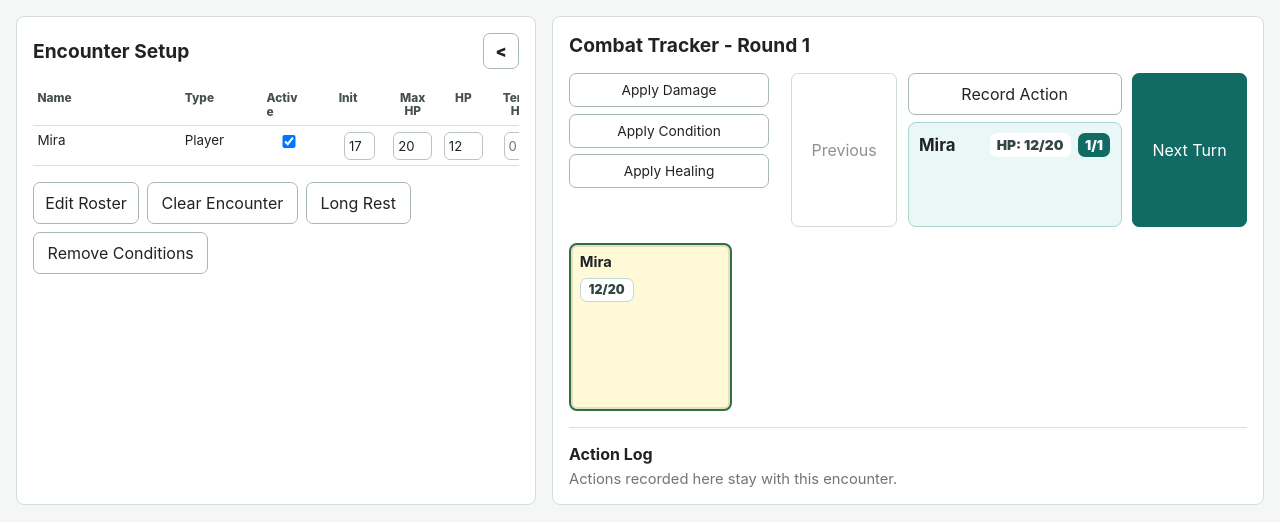
Test: App workflow › replaces or clears the active combatant action for the current round
Click the button "Record Action". click: (1015, 94)
box: [908,73,1122,115]
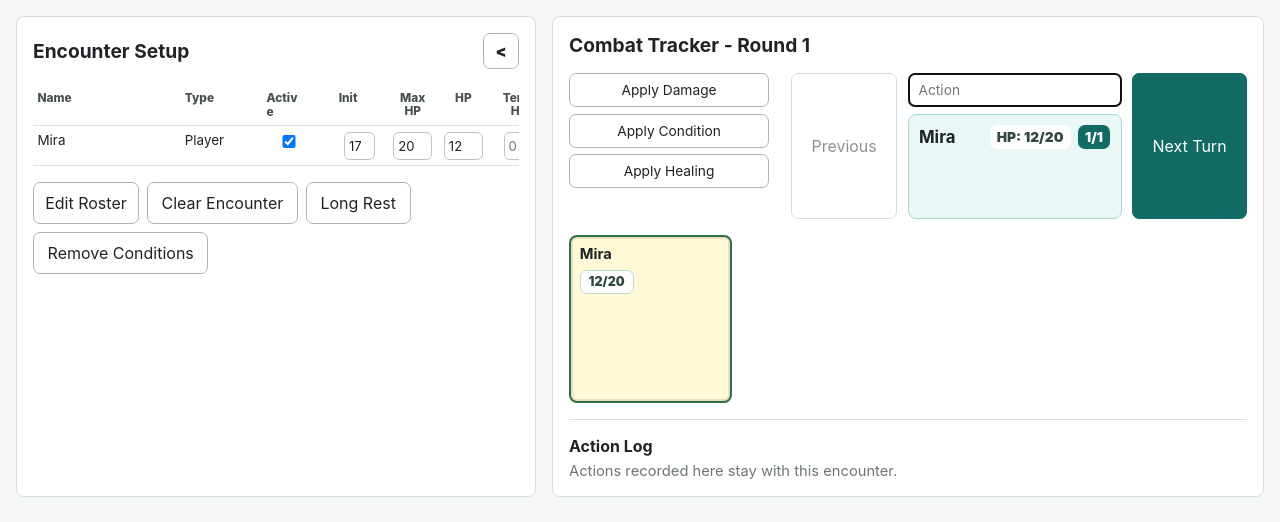
Type "Attack Goblin Warrior 1" into the field named "action text". click: (1015, 90)
box: [908,73,1122,107]
Press Tab
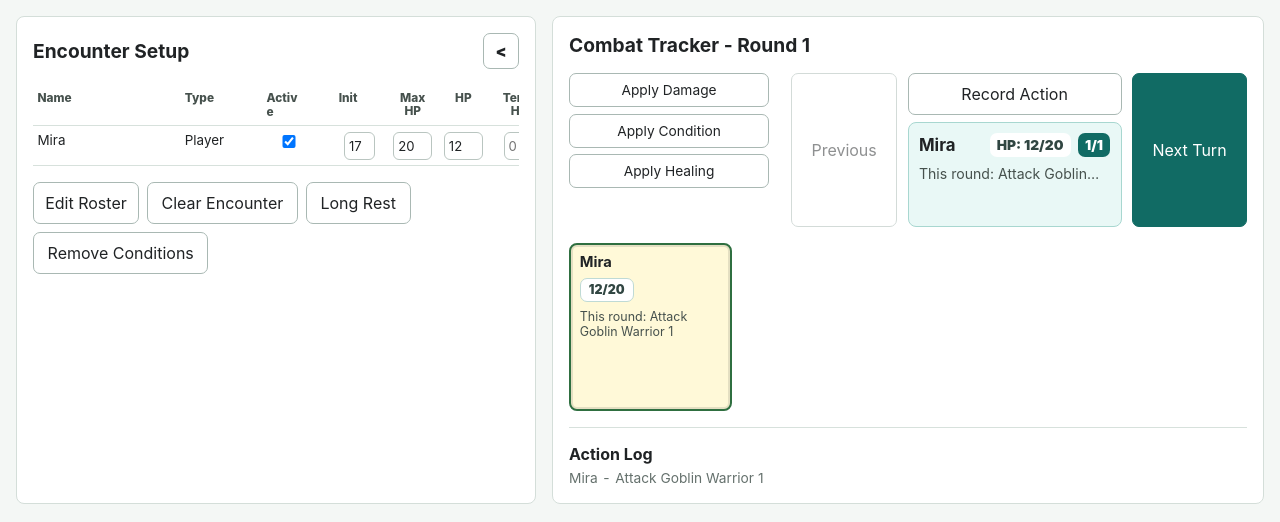
Result: the text "Attack Goblin Warrior 1" is shown at [615,470,764,487]
Click the button "Record Action". click: (1015, 94)
box: [908,73,1122,115]
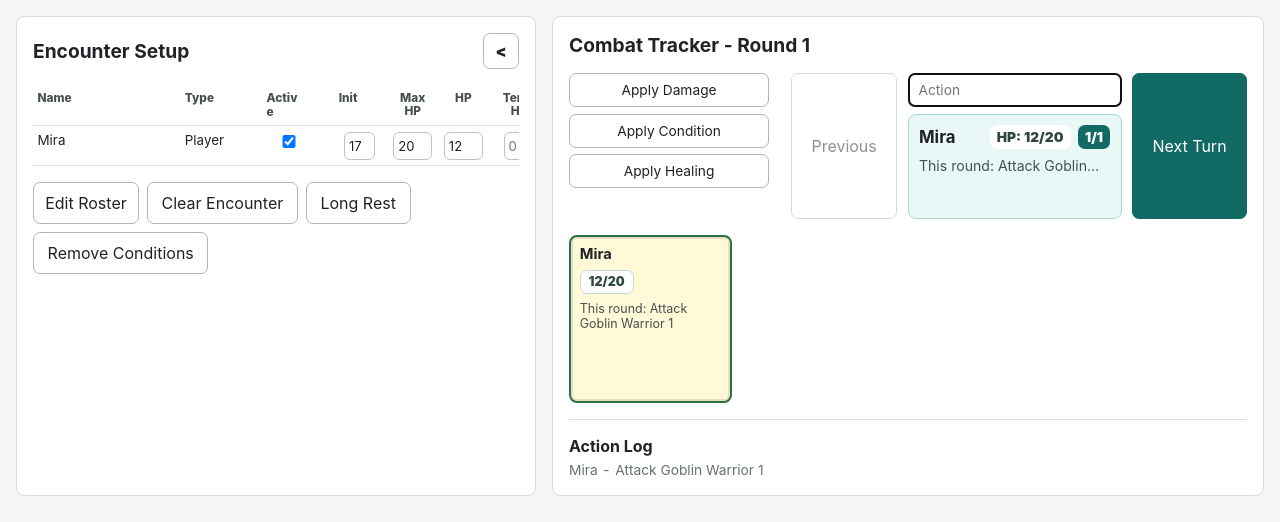
Type "Cast Sleep" into the field named "action text". click: (1015, 90)
box: [908,73,1122,107]
Press Tab
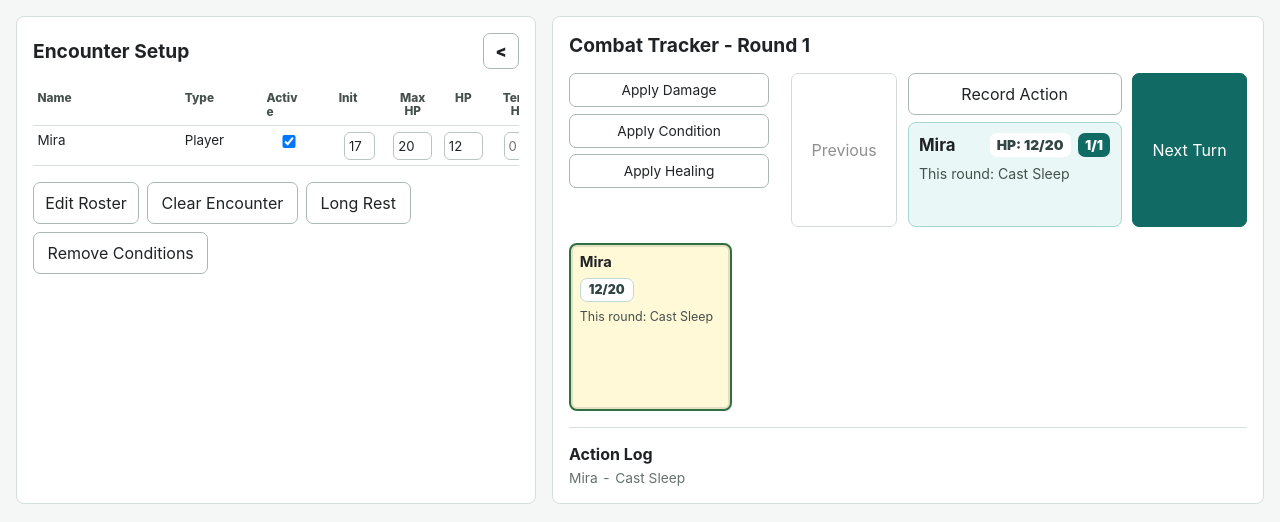
Result: the text "Attack Goblin Warrior 1" is gone
Result: the text "Cast Sleep" is shown at [615,470,685,487]
Click the button "Record Action". click: (1015, 94)
box: [908,73,1122,115]
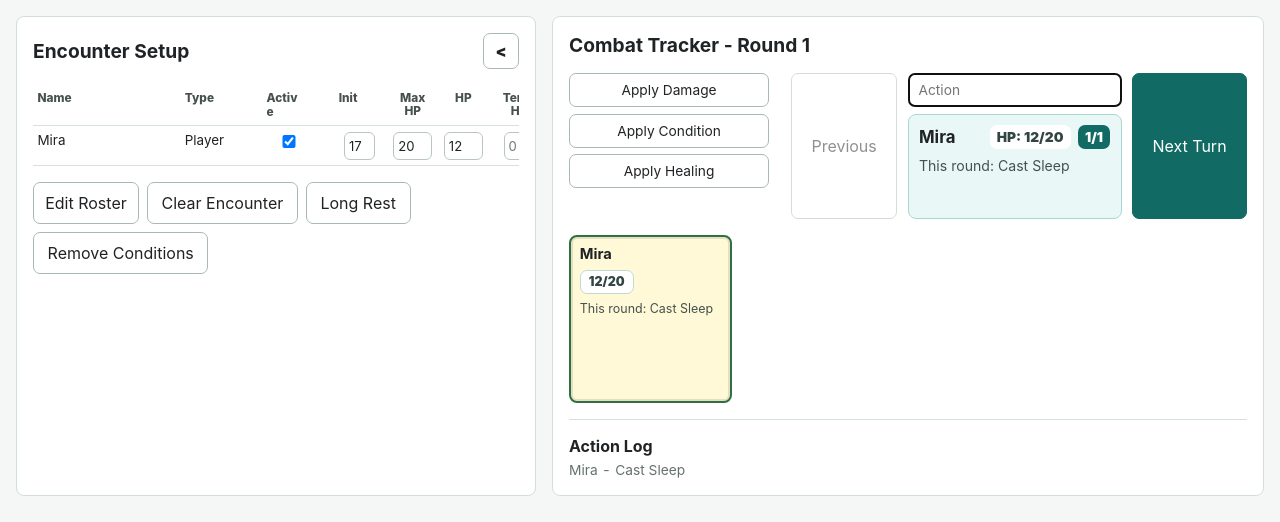
Press Tab
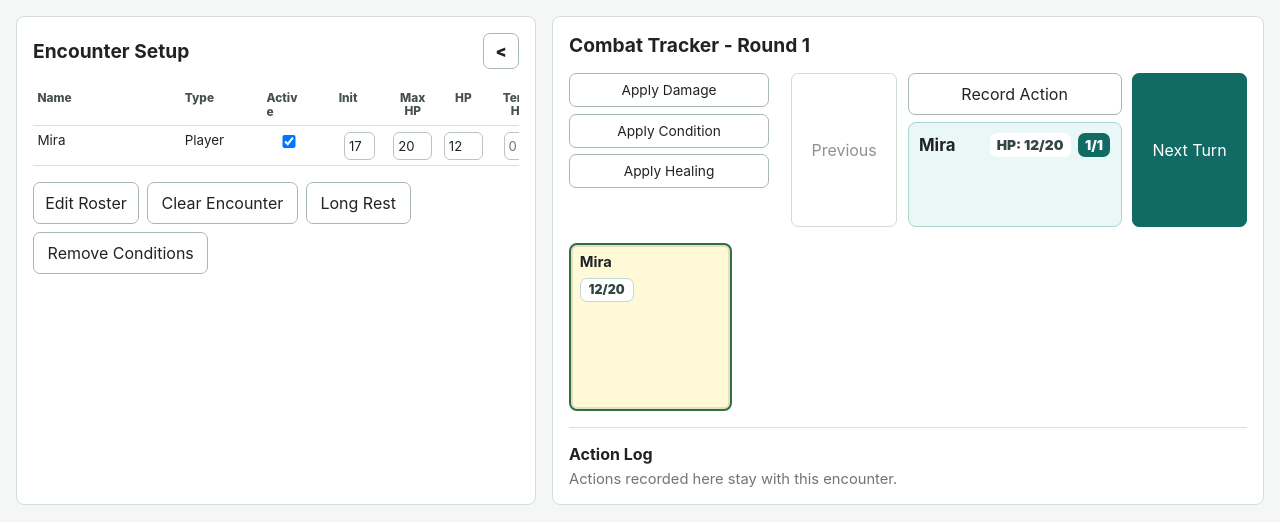
Result: the text "Cast Sleep" is gone
Result: the text "Actions recorded here stay with this encounter." is shown at [569,470,897,488]
